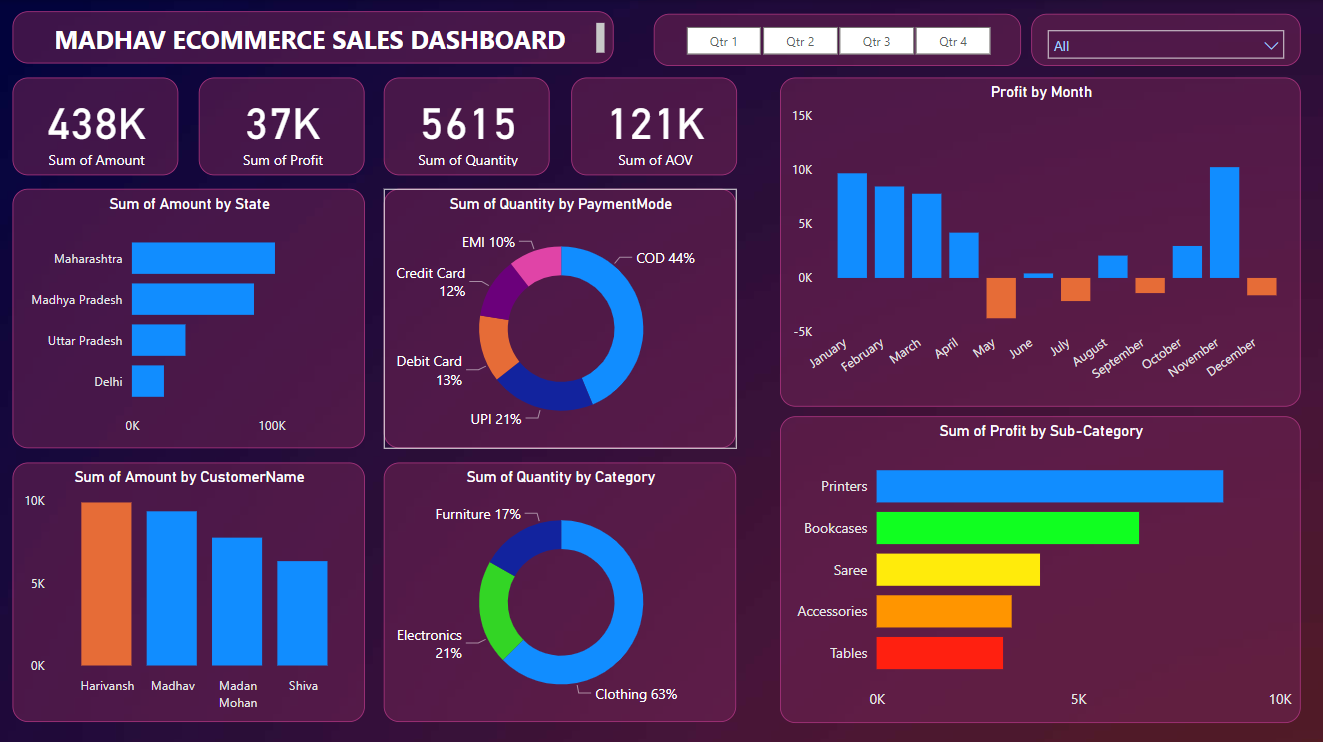

What the dashboard file says about the page in this screenshot:
{"tool":"powerbi","page":{"name":"Page 1","canvas":[1280,720],"ordinal":0},"visuals":[{"type":"textbox","box":[12,10.7,580,50.7],"z":0},{"type":"columnChart","title":"Profit by Month","fields":{"Category":["Orders.Order Date.Variation.Date Hierarchy.Month"],"Y":["Details.Profit"]},"box":[752,74.7,502.7,317.3],"z":1000},{"type":"barChart","fields":{"Category":["Details.Sub-Category"],"Y":["Details.Profit"]},"box":[752,401.3,502.7,296],"z":2000},{"type":"donutChart","fields":{"Category":["Details.Category"],"Y":["Details.Quantity"]},"box":[370.7,446.7,340,250.7],"z":3000},{"type":"donutChart","fields":{"Y":["Details.Quantity"],"Category":["Details.PaymentMode"]},"box":[370.7,182.7,340,250.7],"z":4000},{"type":"card","fields":{"Values":["Details.Amount"]},"box":[12,74.7,160,94.7],"z":5000},{"type":"card","fields":{"Values":["Details.Profit"]},"box":[192,74.7,160,94.7],"z":6000},{"type":"card","fields":{"Values":["Details.Quantity"]},"box":[370.7,74.7,160,94.7],"z":7000},{"type":"card","fields":{"Values":["Details.AOV"]},"box":[550.7,74.7,160,94.7],"z":8000},{"type":"barChart","fields":{"Category":["Orders.State"],"Y":["Details.Amount"]},"box":[12,182.7,340,250.7],"z":9000},{"type":"columnChart","fields":{"Category":["Orders.CustomerName"],"Y":["Details.Amount"]},"box":[12,446.7,340,250.7],"z":10000},{"type":"slicer","fields":{"Values":["Orders.Order Date.Variation.Date Hierarchy.Quarter"]},"box":[630.7,13.3,354.7,50.7],"z":11000},{"type":"slicer","fields":{"Values":["Orders.State"]},"box":[994.7,13.3,260,50],"z":11001}]}

Visuals, with their boxes in screenshot pixels (x1, y1, x2, y2), scaled from the page's 1280x720 canvas onto the 1323x742 screenshot:
textbox: (12,11,612,63)
"Profit by Month" columnChart: (777,77,1297,404)
barChart - Details.Sub-Category x Details.Profit: (777,414,1297,719)
donutChart - Details.Category x Details.Quantity: (383,460,735,719)
donutChart - Details.Quantity x Details.PaymentMode: (383,188,735,447)
card - Details.Amount: (12,77,178,175)
card - Details.Profit: (198,77,364,175)
card - Details.Quantity: (383,77,549,175)
card - Details.AOV: (569,77,735,175)
barChart - Orders.State x Details.Amount: (12,188,364,447)
columnChart - Orders.CustomerName x Details.Amount: (12,460,364,719)
slicer - Orders.Order Date.Variation.Date Hierarchy.Quarter: (652,14,1019,66)
slicer - Orders.State: (1028,14,1297,65)
